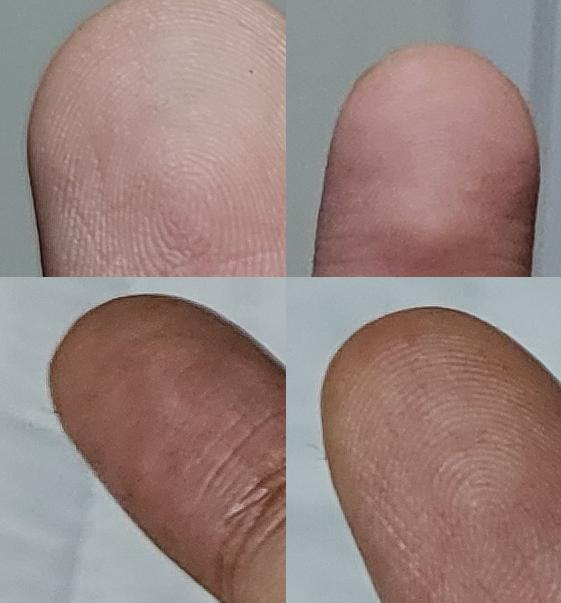Fingerprints: (47, 293, 286, 601), (319, 303, 561, 603), (26, 0, 286, 277), (310, 44, 540, 276)
